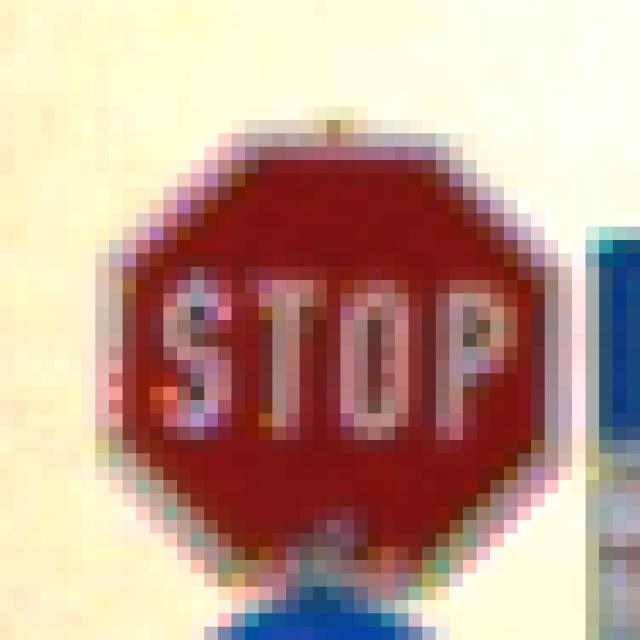STOP: (83, 81, 573, 561)
